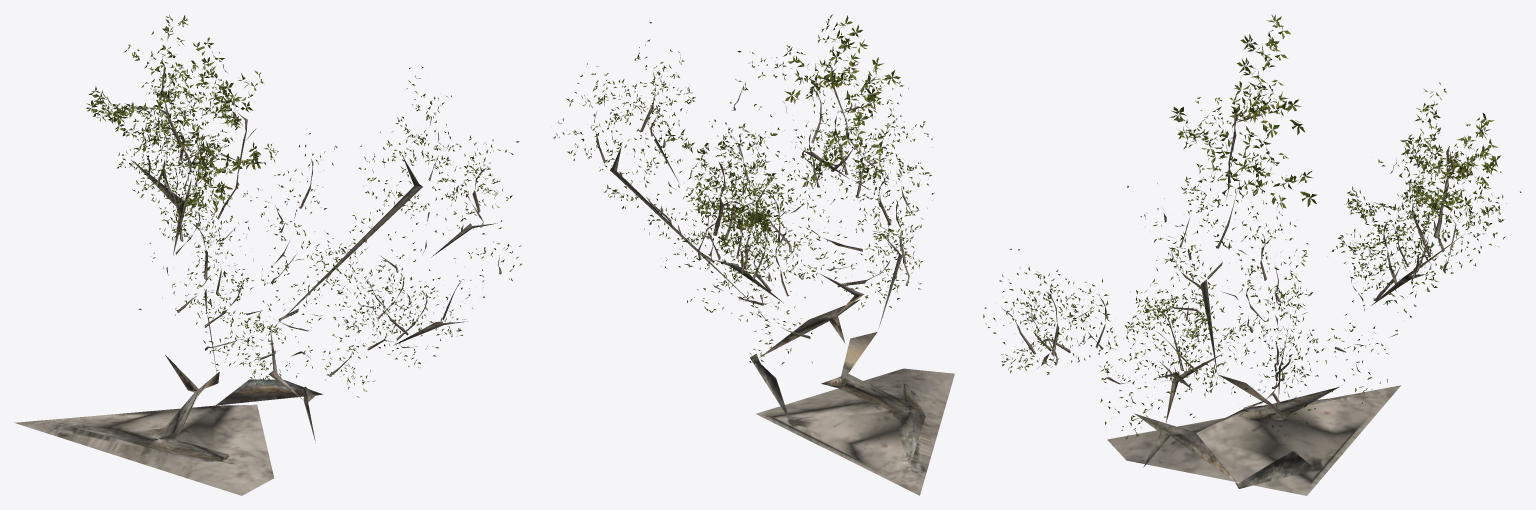
Rendered from island_tree_03_lod1.glb.
3 renders of one model, left to right at view 1: azimuth 30°, elevation 25°; view 2: azimuth 150°, elevation 25°; view 3: azimuth 270°, elevation 25°, orthographic. The views are drawn at different scales.
Parts seen in each view (by area): view 1: island_tree_03_LOD0; view 2: island_tree_03_LOD0; view 3: island_tree_03_LOD0.
Boxes of the visible parts, left/top/right/bottom form: island_tree_03_LOD0: left=14, top=15, right=521, bottom=495; island_tree_03_LOD0: left=553, top=14, right=954, bottom=495; island_tree_03_LOD0: left=983, top=14, right=1521, bottom=495.
Bounding box in the file's own units: 2.81 × 2.61 × 2.88.
3 materials, 3 textured.
